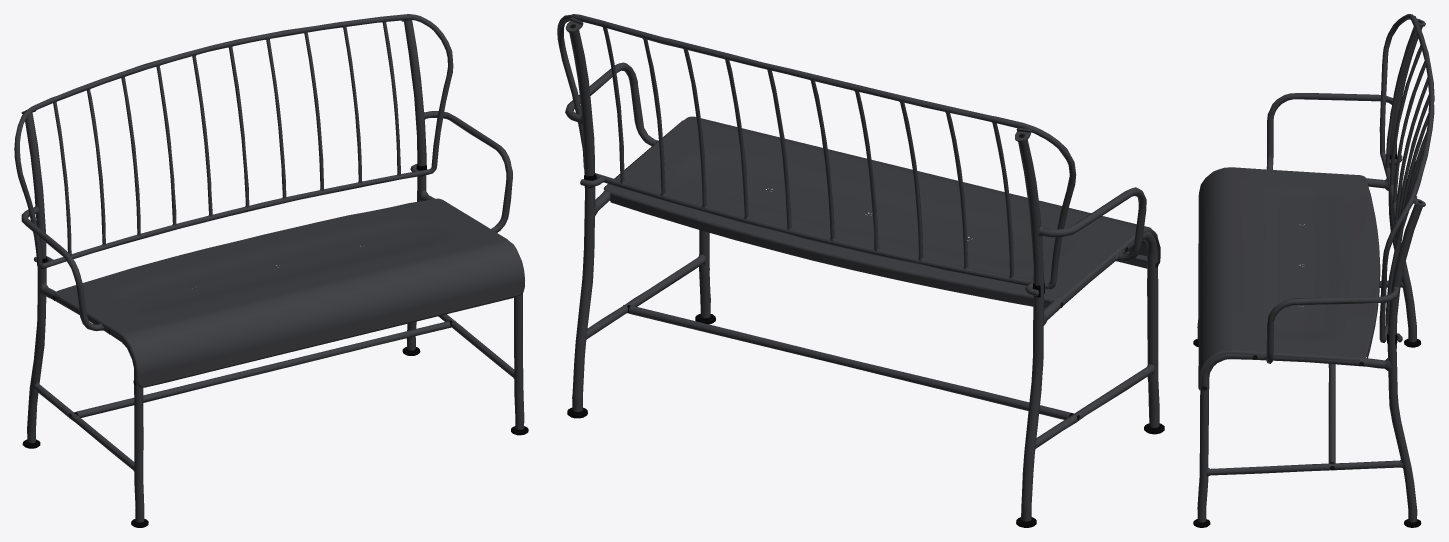
File: lacko_sofa_2_osobowa_na_zewnatrz_50522733.glb
The picture shows the model from 3 angles, left to right: view 1: azimuth 30°, elevation 25°; view 2: azimuth 150°, elevation 25°; view 3: azimuth 270°, elevation 25°; orthographic projection. The views are drawn at different scales.
Visible parts, largest first — view 1: lacko_sofa_2_osobowa_na_zewnatrz_50522733; view 2: lacko_sofa_2_osobowa_na_zewnatrz_50522733; view 3: lacko_sofa_2_osobowa_na_zewnatrz_50522733.
Part boxes in pixels (<box>): lacko_sofa_2_osobowa_na_zewnatrz_50522733: <box>14,14,528,527</box>; lacko_sofa_2_osobowa_na_zewnatrz_50522733: <box>557,14,1164,527</box>; lacko_sofa_2_osobowa_na_zewnatrz_50522733: <box>1193,14,1434,527</box>.
Size of the model in its own units: 1.15 by 0.8681 by 0.5635.
Materials: 1 (1 with a texture image).
